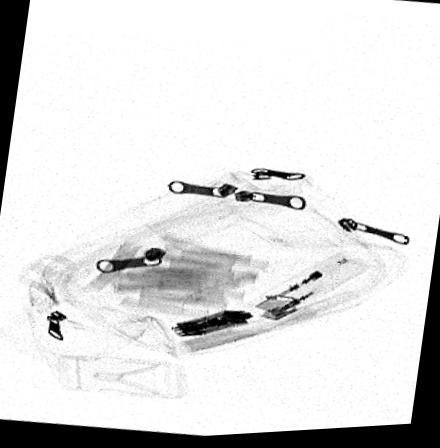Lighter: (244, 254, 373, 325)
